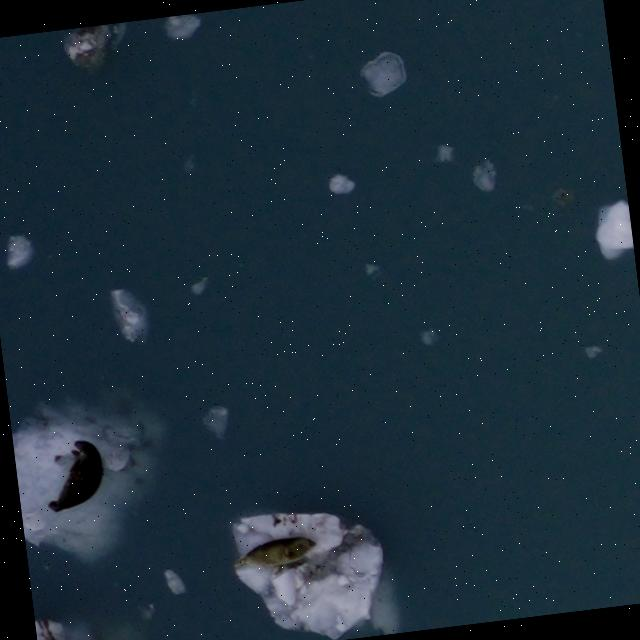seal: (35, 433, 112, 517), (225, 530, 324, 578)
